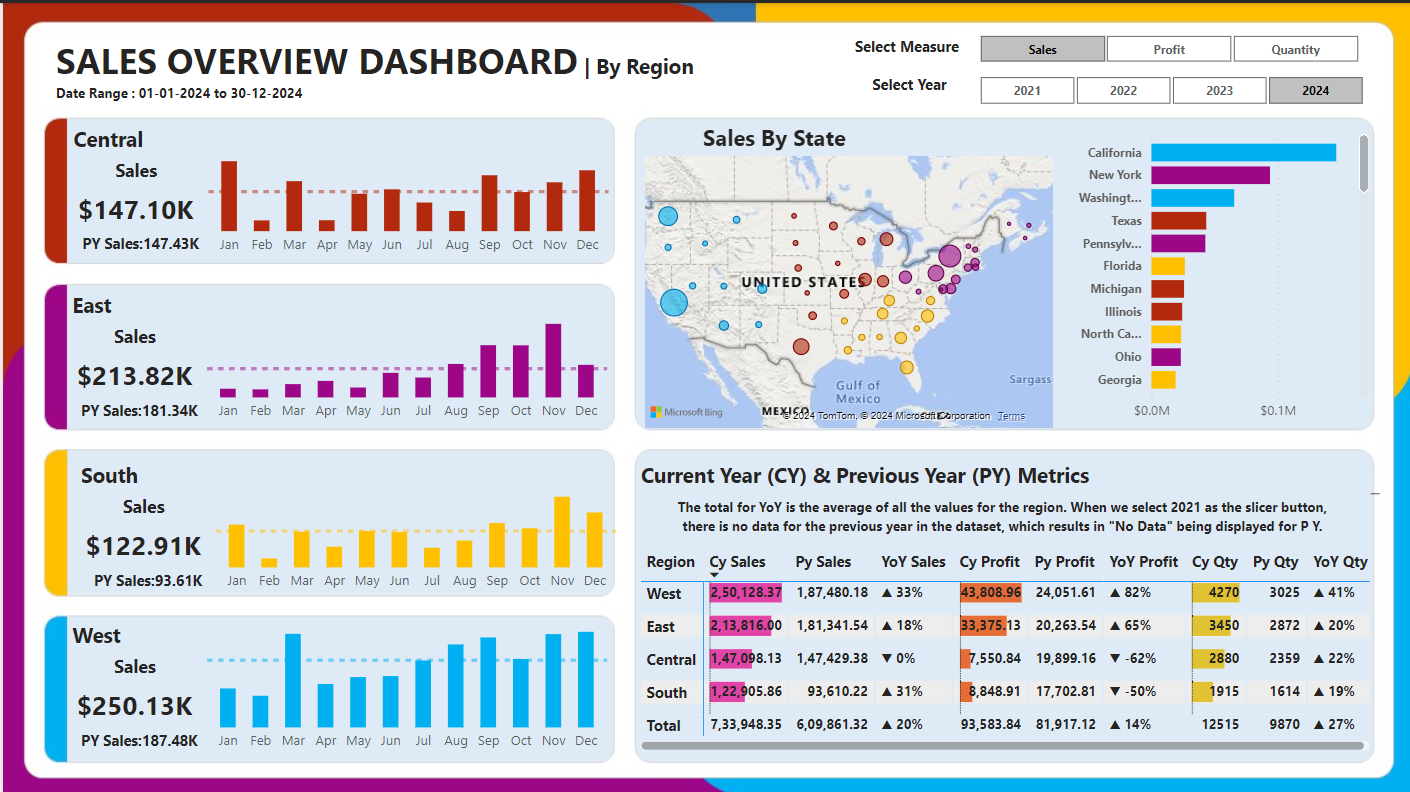

The dashboard page shown, as its layout file describes it:
{"tool":"powerbi","page":{"name":"Page 1","canvas":[1280,720],"ordinal":0},"visuals":[{"type":"slicer","fields":{"Values":["Select Metric.Select Metric"]},"box":[865.9,13.7,392.5,46.7],"z":0},{"type":"map","title":"Sales by State","fields":{"Size":["Sales Data.Total Quantity"],"Category":["Sales Data.State/Province"],"Series":["Sales Data.Region"]},"box":[577.7,133.1,380.1,256.6],"z":0,"group":"g5"},{"type":"slicer","fields":{"Values":["Calender Table.Year"]},"box":[879.6,60.4,378.7,38.4],"z":1000},{"type":"card","fields":{"Values":["Sales Data.Dynamic Map title"]},"box":[578.2,108.4,245.6,30.2],"z":1000,"group":"g5"},{"type":"card","fields":{"Values":["Sales Data.Total Quantity"]},"box":[52.1,170.2,137.2,35.7],"z":1000,"group":"g1"},{"type":"card","fields":{"Values":["Sales Data.Total Quantity"]},"box":[51,320.8,137.2,35.7],"z":1000,"group":"g2"},{"type":"card","fields":{"Values":["Sales Data.Total Quantity"]},"box":[59.3,475,137.2,35.7],"z":1000,"group":"g3"},{"type":"card","fields":{"Values":["Sales Data.Total Quantity"]},"box":[51,619.8,137.2,35.7],"z":1000,"group":"g4"},{"type":"textbox","box":[56.3,24.7,592.8,54.9],"z":2000},{"type":"textbox","box":[59,105.7,150.9,41.2],"z":2000,"group":"g1"},{"type":"textbox","box":[57.9,256.3,150.9,41.2],"z":2000,"group":"g2"},{"type":"textbox","box":[66.2,410.5,150.9,41.2],"z":2000,"group":"g3"},{"type":"textbox","box":[57.9,555.3,150.9,41.2],"z":2000,"group":"g4"},{"type":"group","id":"g1","title":"Group 1","box":[52.1,105.7,502.2,131.7],"z":3000},{"type":"card","fields":{"Values":["Sales Data.Dynamic title"]},"box":[61.7,137.3,119.4,32.9],"z":3000,"group":"g1"},{"type":"card","fields":{"Values":["Sales Data.Dynamic title"]},"box":[60.6,287.9,119.4,32.9],"z":3000,"group":"g2"},{"type":"card","fields":{"Values":["Sales Data.Dynamic title"]},"box":[68.9,442.1,119.4,32.9],"z":3000,"group":"g3"},{"type":"card","fields":{"Values":["Sales Data.Dynamic title"]},"box":[60.6,586.9,119.4,32.9],"z":3000,"group":"g4"},{"type":"group","id":"g2","title":"Group 1","box":[51,256.3,503.1,132.9],"z":4000},{"type":"card","fields":{"Values":["Sales Data.PY KPI Sales"]},"box":[61.7,205.9,127.6,31.6],"z":5000,"group":"g1"},{"type":"card","fields":{"Values":["Sales Data.PY KPI Sales"]},"box":[60.6,356.5,127.6,31.6],"z":5000,"group":"g2"},{"type":"group","id":"g3","title":"Group 1","box":[59.3,410.5,501.9,131.7],"z":5000},{"type":"card","fields":{"Values":["Sales Data.PY KPI Sales"]},"box":[68.9,510.7,127.6,31.6],"z":5000,"group":"g3"},{"type":"card","fields":{"Values":["Sales Data.PY KPI Sales"]},"box":[60.6,655.5,127.6,31.6],"z":5000,"group":"g4"},{"type":"clusteredColumnChart","fields":{"Y":["Sales Data.Total Quantity"],"Category":["Calender Table.Month"]},"box":[181.1,105.7,373.2,131.7],"z":6000,"group":"g1"},{"type":"clusteredColumnChart","fields":{"Y":["Sales Data.Total Quantity"],"Category":["Calender Table.Month"]},"box":[180,256.3,373.2,131.7],"z":6000,"group":"g2"},{"type":"clusteredColumnChart","fields":{"Y":["Sales Data.Total Quantity"],"Category":["Calender Table.Month"]},"box":[188.3,410.5,373.2,131.7],"z":6000,"group":"g3"},{"type":"group","id":"g4","title":"Group 1","box":[51,555.3,503.1,131.7],"z":6000},{"type":"clusteredColumnChart","fields":{"Y":["Sales Data.Total Quantity"],"Category":["Calender Table.Month"]},"box":[180,555.3,373.2,131.7],"z":6000,"group":"g4"},{"type":"group","id":"g5","title":"Group 2","box":[577.7,108.4,380.1,281.3],"z":7000},{"type":"barChart","fields":{"Y":["Sales Data.Total Quantity"],"Category":["Sales Data.State/Province"],"Series":["Sales Data.Region"]},"box":[957.8,107,286.8,281.3],"z":8000},{"type":"pivotTable","fields":{"Rows":["Sales Data.Region"],"Values":["Sales Data.Cy Sales","Sales Data.Py Sales","Sales Data.YoY Sales","Sales Data.Cy Profit","Sales Data.Py Profit","Sales Data.YoY Profit","Sales Data.Cy Qty","Sales Data.Py Qty","Sales Data.YoY Qty"]},"box":[573.6,491.3,671,192.1],"z":9000},{"type":"textbox","box":[579.1,441.9,654.5,49.4],"z":9001},{"type":"textbox","box":[603.8,440.5,650.4,11],"z":9002},{"type":"textbox","box":[573.6,410.3,625.7,45.3],"z":9003}]}

Visuals, with their boxes in screenshot pixels (x1, y1, x2, y2), scaled from the page's 1280x720 canvas onto the 1410x792 screenshot:
slicer - Select Metric.Select Metric: bbox=[954, 15, 1386, 66]
"Sales by State" map: bbox=[636, 146, 1055, 429]
slicer - Calender Table.Year: bbox=[969, 66, 1386, 109]
card - Sales Data.Dynamic Map title: bbox=[637, 119, 907, 152]
card - Sales Data.Total Quantity: bbox=[57, 187, 209, 226]
card - Sales Data.Total Quantity: bbox=[56, 353, 207, 392]
card - Sales Data.Total Quantity: bbox=[65, 522, 216, 562]
card - Sales Data.Total Quantity: bbox=[56, 682, 207, 721]
textbox: bbox=[62, 27, 715, 88]
textbox: bbox=[65, 116, 231, 162]
textbox: bbox=[64, 282, 230, 327]
textbox: bbox=[73, 452, 239, 497]
textbox: bbox=[64, 611, 230, 656]
"Group 1" group: bbox=[57, 116, 611, 261]
card - Sales Data.Dynamic title: bbox=[68, 151, 199, 187]
card - Sales Data.Dynamic title: bbox=[67, 317, 198, 353]
card - Sales Data.Dynamic title: bbox=[76, 486, 207, 522]
card - Sales Data.Dynamic title: bbox=[67, 646, 198, 682]
"Group 1" group: bbox=[56, 282, 610, 428]
card - Sales Data.PY KPI Sales: bbox=[68, 226, 209, 261]
card - Sales Data.PY KPI Sales: bbox=[67, 392, 207, 427]
"Group 1" group: bbox=[65, 452, 618, 596]
card - Sales Data.PY KPI Sales: bbox=[76, 562, 216, 597]
card - Sales Data.PY KPI Sales: bbox=[67, 721, 207, 756]
clusteredColumnChart - Sales Data.Total Quantity x Calender Table.Month: bbox=[199, 116, 611, 261]
clusteredColumnChart - Sales Data.Total Quantity x Calender Table.Month: bbox=[198, 282, 609, 427]
clusteredColumnChart - Sales Data.Total Quantity x Calender Table.Month: bbox=[207, 452, 619, 596]
"Group 1" group: bbox=[56, 611, 610, 756]
clusteredColumnChart - Sales Data.Total Quantity x Calender Table.Month: bbox=[198, 611, 609, 756]
"Group 2" group: bbox=[636, 119, 1055, 429]
barChart - Sales Data.Total Quantity x Sales Data.State/Province: bbox=[1055, 118, 1371, 427]
pivotTable - Sales Data.Region x Sales Data.Cy Sales: bbox=[632, 540, 1371, 752]
textbox: bbox=[638, 486, 1359, 540]
textbox: bbox=[665, 485, 1382, 497]
textbox: bbox=[632, 451, 1321, 501]
